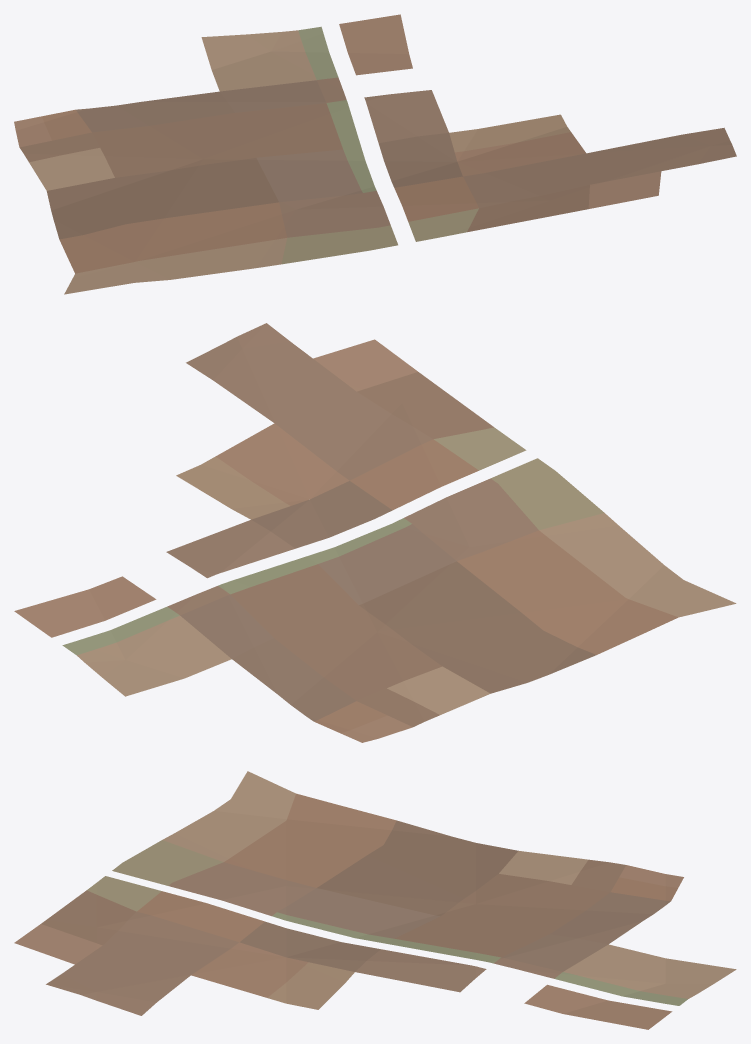
The model's file is farm_-31_-32_soil.glb.
3 renders of one model, top to bottom at view 1: azimuth 30°, elevation 25°; view 2: azimuth 150°, elevation 25°; view 3: azimuth 270°, elevation 25°, orthographic. The views are drawn at different scales.
Parts seen in each view (by area): view 1: geometry_0; view 2: geometry_0; view 3: geometry_0.
Boxes of the visible parts, <box> form: geometry_0: <box>14,14,736,294</box>; geometry_0: <box>14,323,736,742</box>; geometry_0: <box>14,771,736,1029</box>.
Bounding box in the file's own units: 302 × 45.18 × 305.
